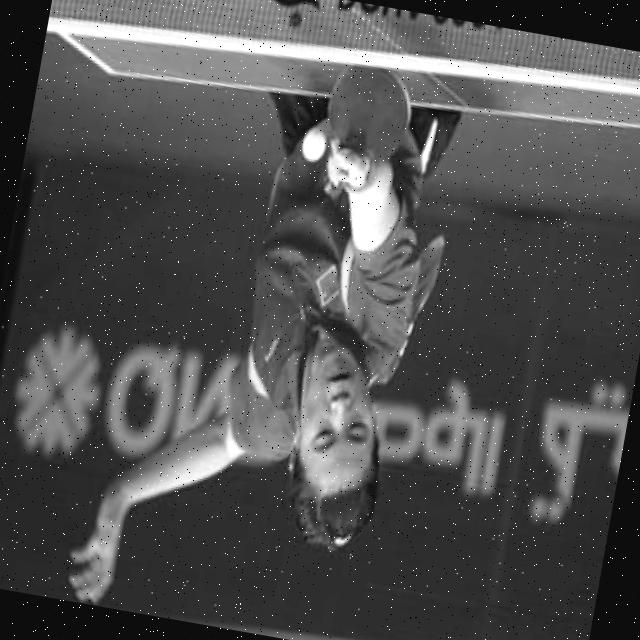ping-pong-ball: (292, 123, 331, 170)
